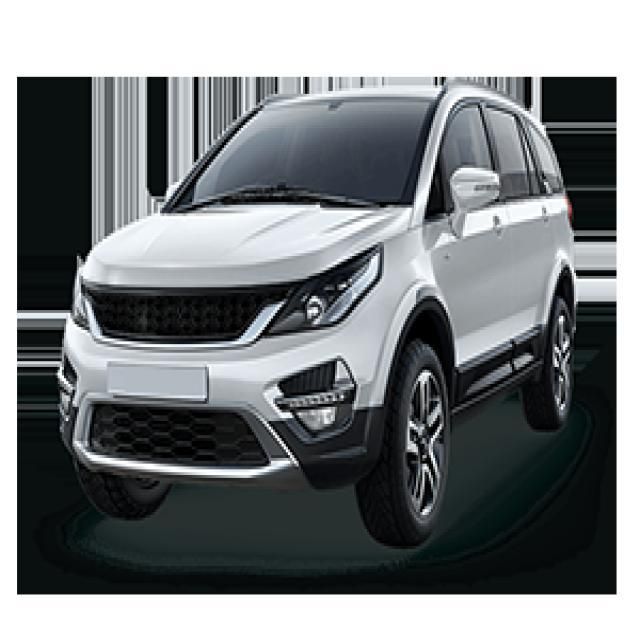SUV: (48, 75, 574, 551)
